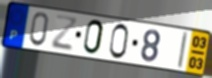0: (82, 19, 105, 56), (108, 22, 130, 60), (29, 11, 51, 48)
8: (140, 29, 161, 63)
I: (176, 31, 189, 70)
Z: (50, 14, 79, 53)
